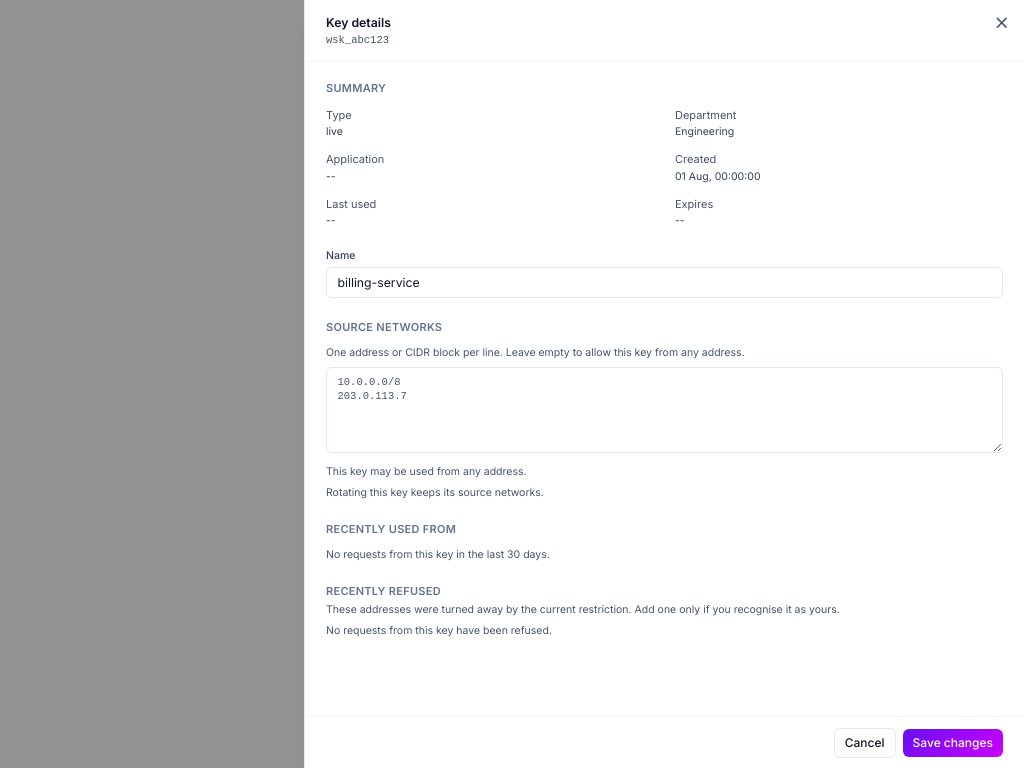
it: KeyDetailDrawer › surfaces a refusal from the server rather than reporting success
Type "10.0.0.0/8" into the text box named "Source networks" at point(664, 410), box top-left (326, 367), bottom-right (1003, 453)
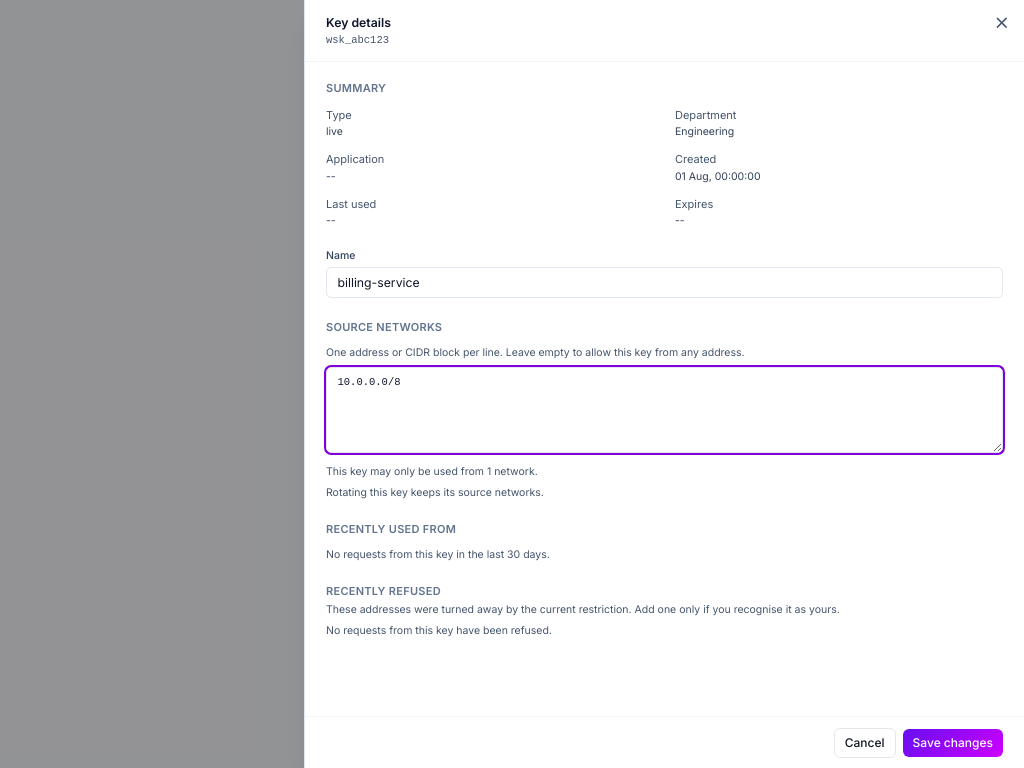
Click the button "Save changes" at point(953, 742), box top-left (903, 728), bottom-right (1003, 756)
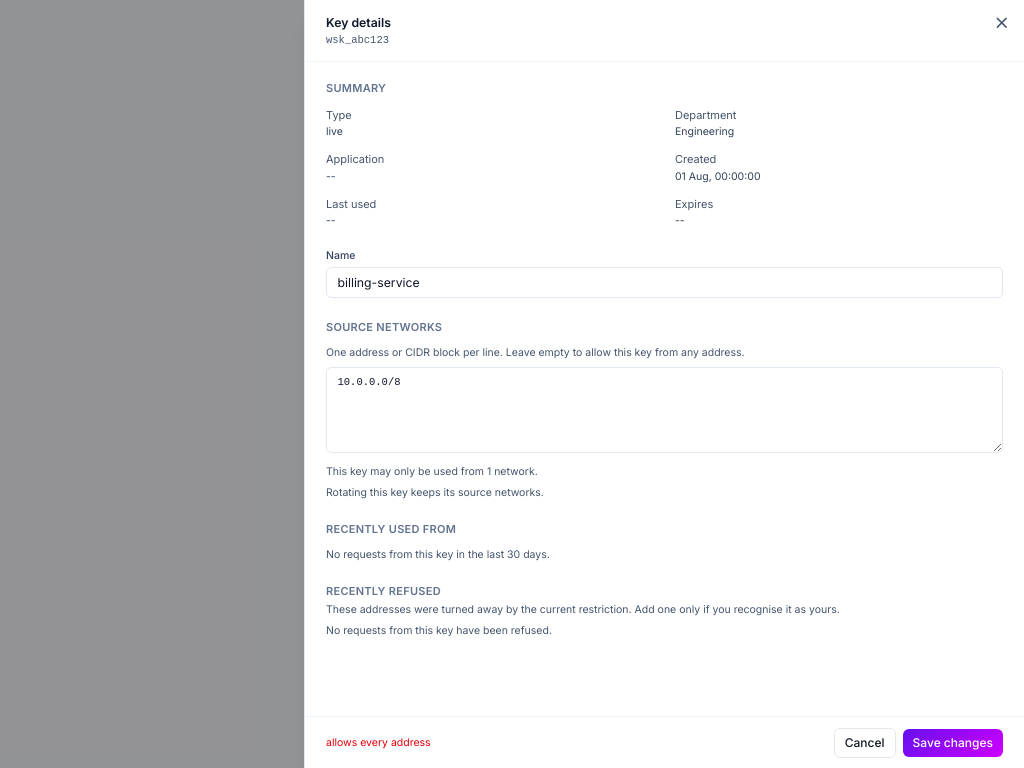
Result: the text "allows every address" is shown at top-left (326, 736), bottom-right (431, 750)
